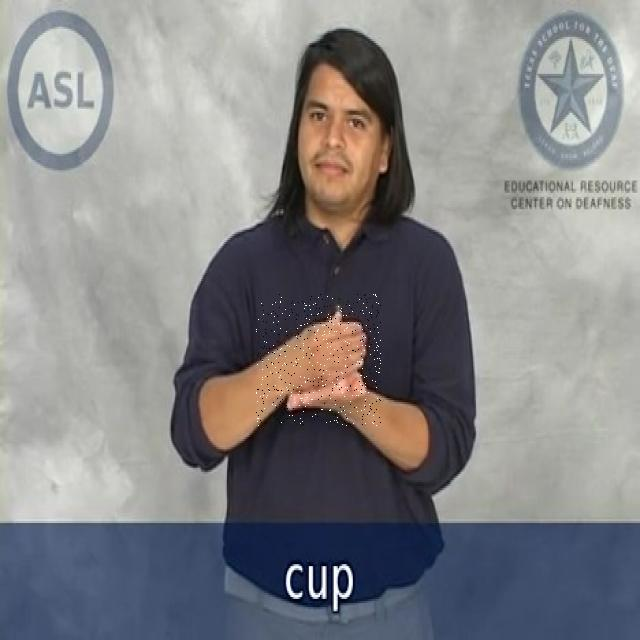cup: (256, 294, 381, 426)
